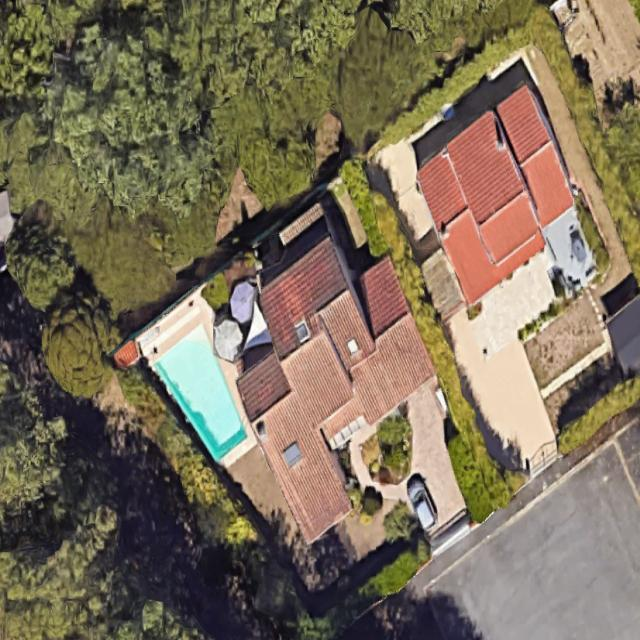maison: (189, 200, 476, 547), (394, 85, 595, 303)
